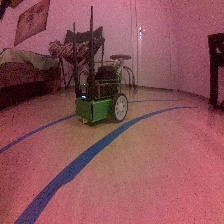rob: (73, 64, 128, 124)
